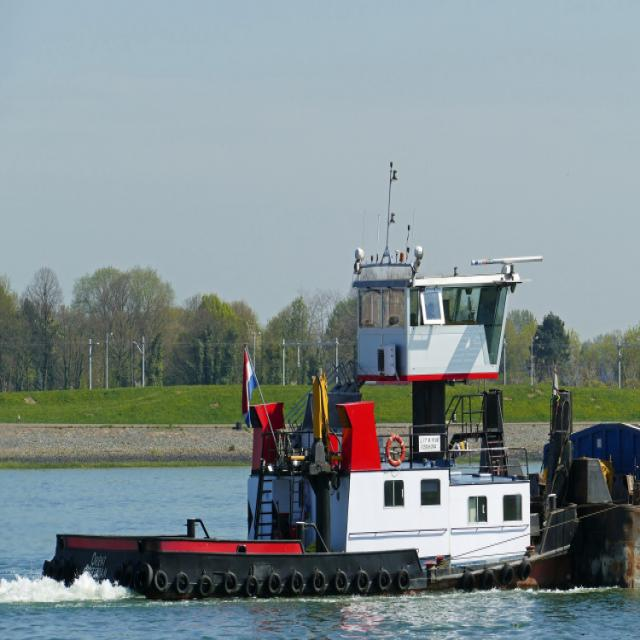tugboat: (41, 251, 599, 613)
